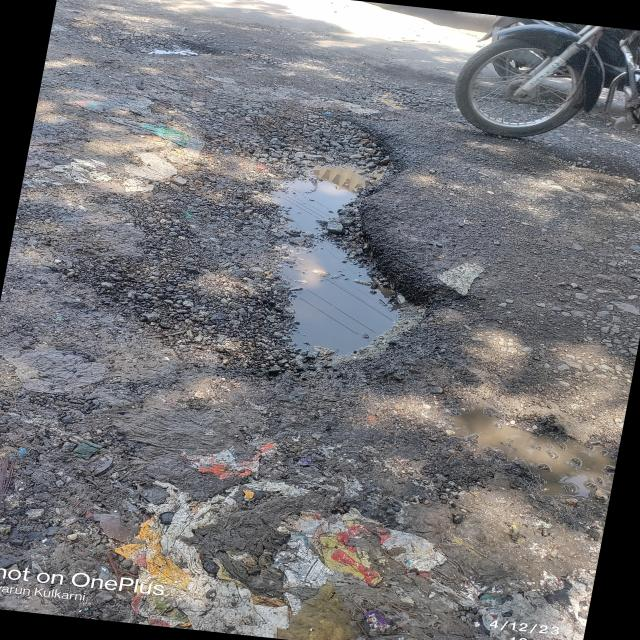potholes: (202, 101, 436, 382)
